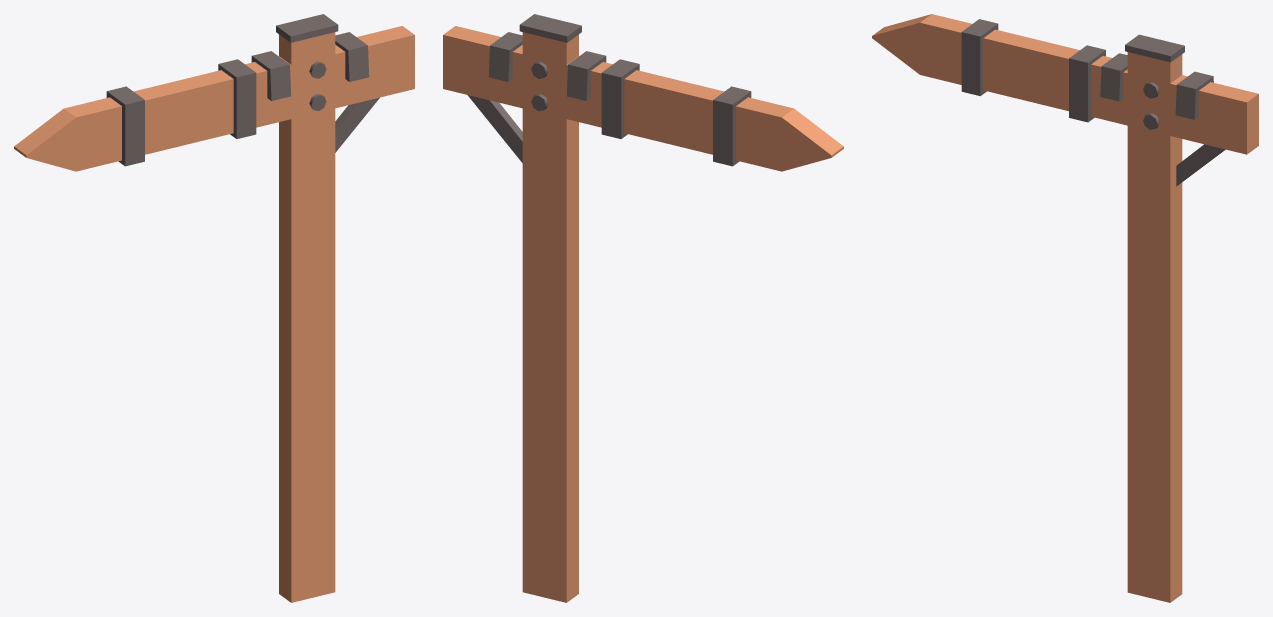
Rendered from Pointer.fbx.
3 renders of one model, left to right at view 1: azimuth 30°, elevation 25°; view 2: azimuth 150°, elevation 25°; view 3: azimuth 330°, elevation 25°, orthographic. The views are drawn at different scales.
Parts seen in each view (by area): view 1: Box002; view 2: Box002; view 3: Box002.
Boxes of the visible parts, bbox=[...] form: Box002: bbox=[14, 14, 414, 602]; Box002: bbox=[443, 14, 843, 602]; Box002: bbox=[872, 14, 1258, 602].
Size of the model in its own units: 119 by 166 by 11.1.
